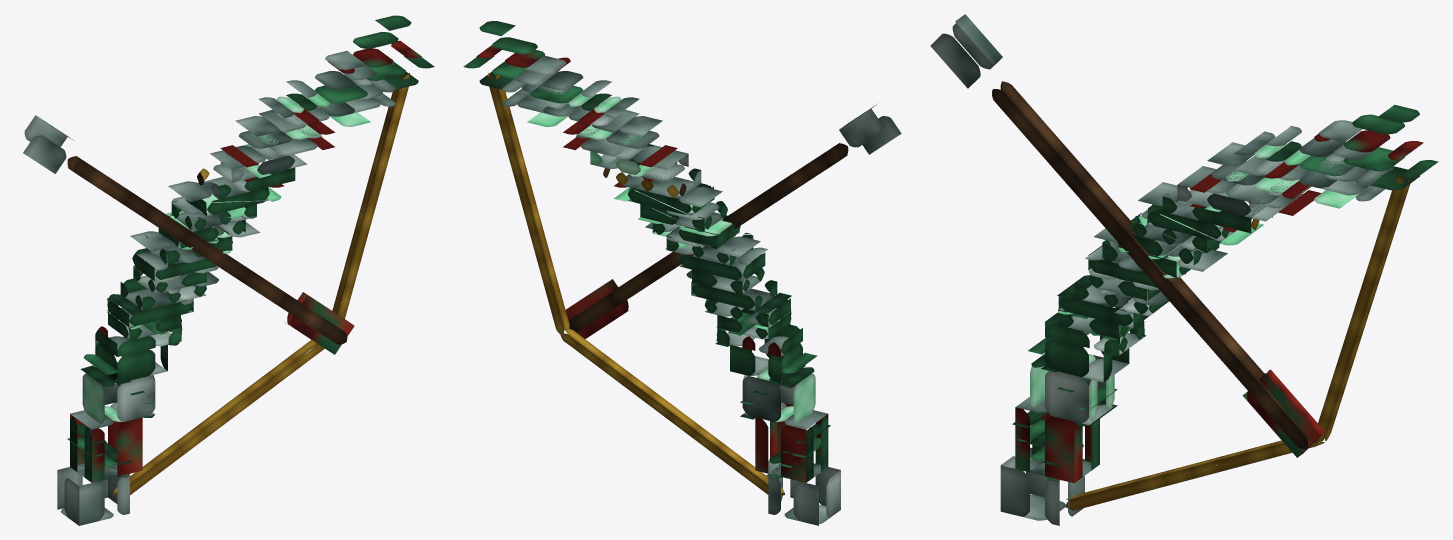
File: bamboo_bow_pulling_2.obj
3 views of the same model, side by side, from view 1: azimuth 30°, elevation 25°; view 2: azimuth 150°, elevation 25°; view 3: azimuth 330°, elevation 25° (orthographic). The views are drawn at different scales.
Visible parts, largest first — view 1: lit, fire; view 2: lit, fire; view 3: lit, fire.
Boxes of the visible parts, x1=… form: lit: x1=23, y1=15, x2=434, y2=525; fire: x1=285, y1=292, x2=354, y2=354; lit: x1=463, y1=21, x2=901, y2=525; fire: x1=565, y1=279, x2=629, y2=338; lit: x1=930, y1=14, x2=1438, y2=525; fire: x1=1242, y1=369, x2=1324, y2=457.
Size of the model in its own units: 1.02 by 0.9906 by 0.125.
